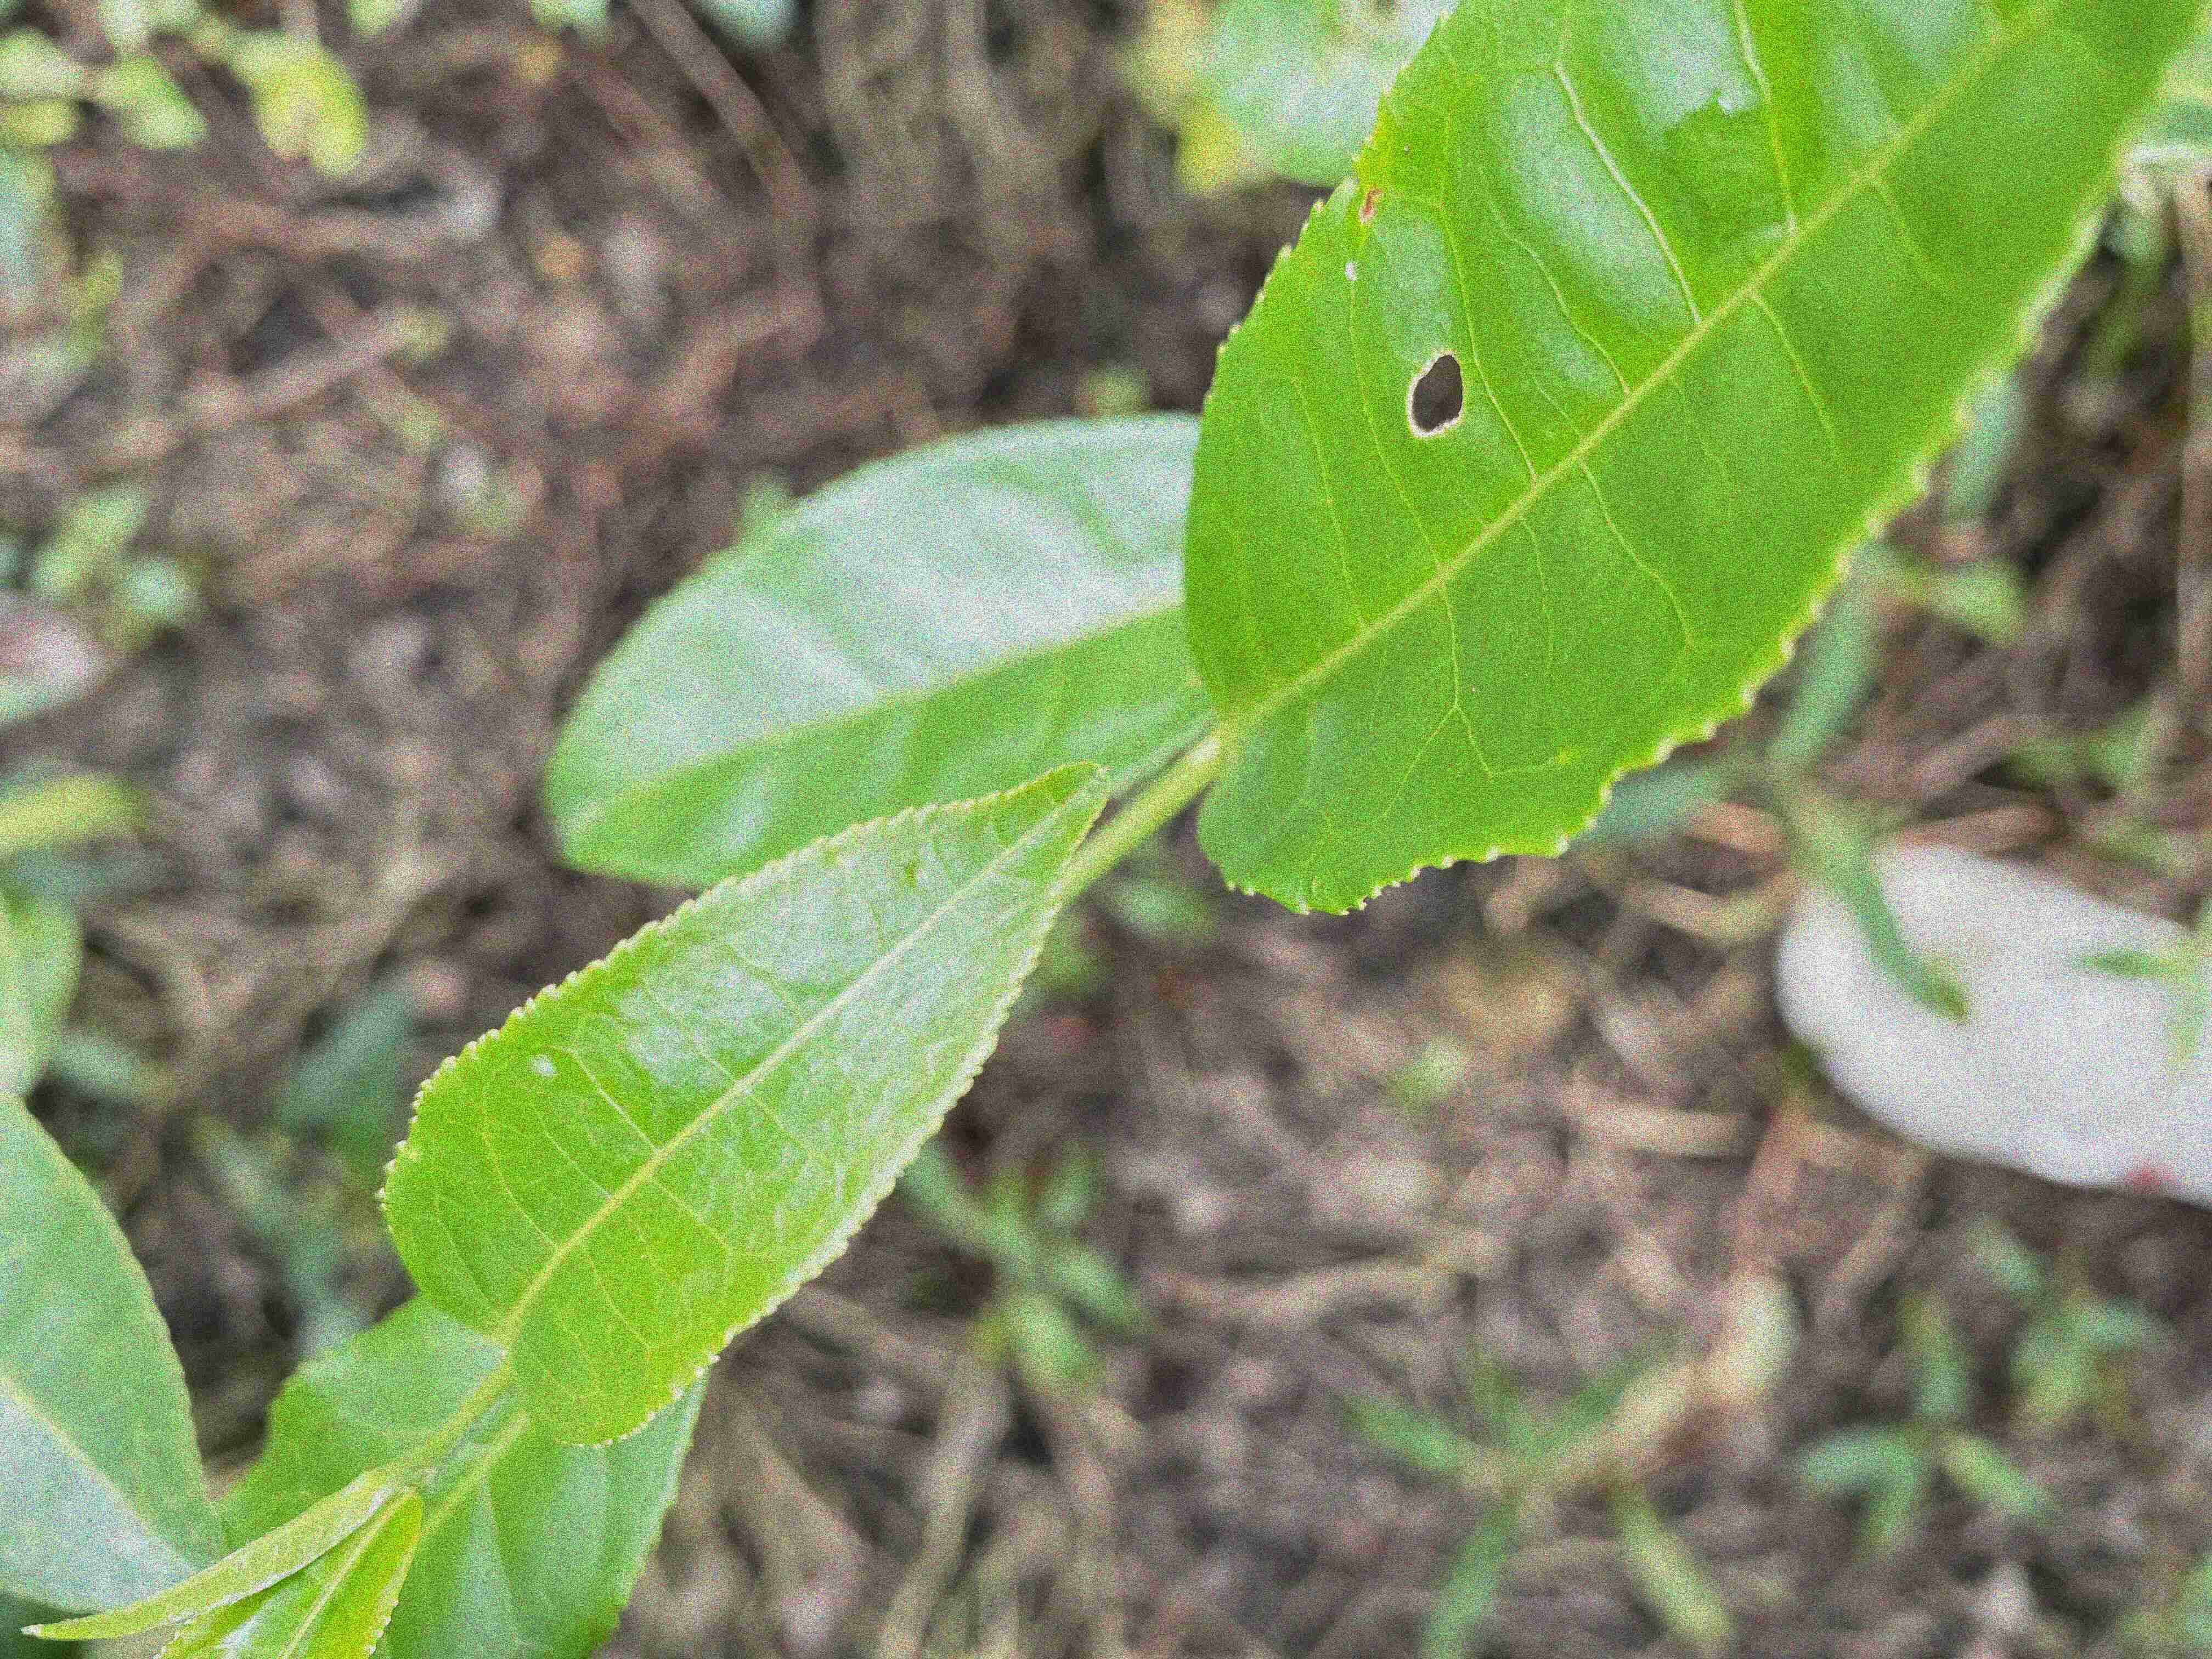chihuo_low: (1174, 0, 2196, 918)
